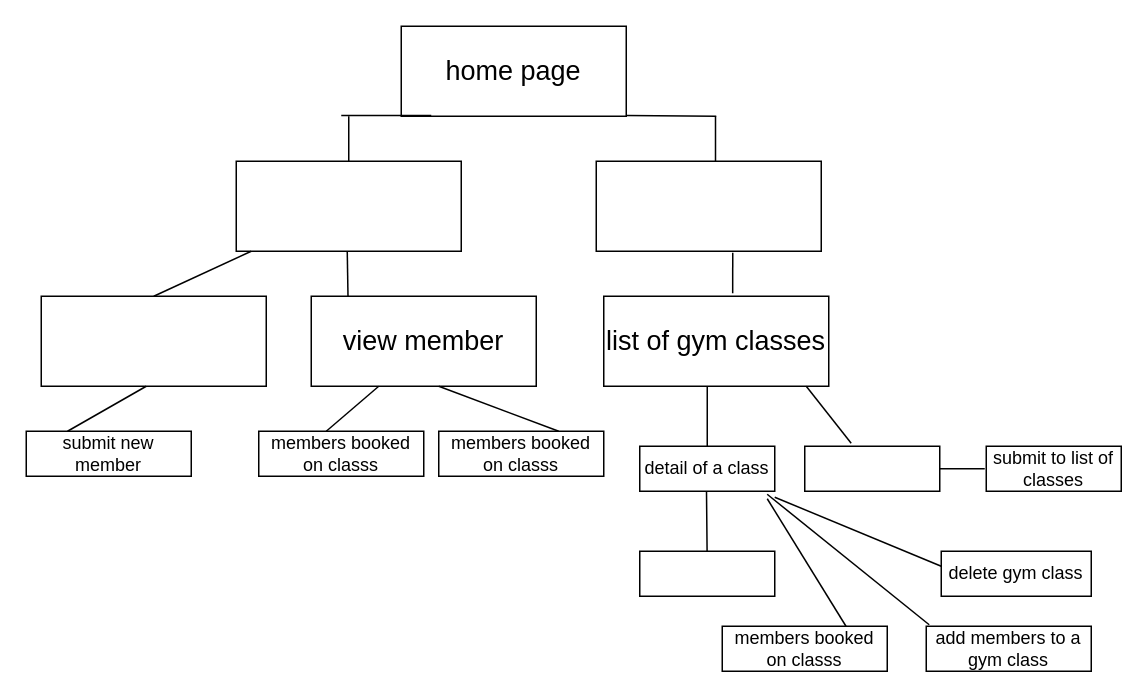
The diagram is 1148 pixels wide and 698 high, and some of its shapes have lost their labels. Each missing label, with the centre of its shape:
"add new member" belongs at pixel 153 340.
"create new class" belongs at pixel 871 468.
"edit gym class" belongs at pixel 706 573.
"gym classes" belongs at pixel 708 205.
"members" belongs at pixel 348 205.
